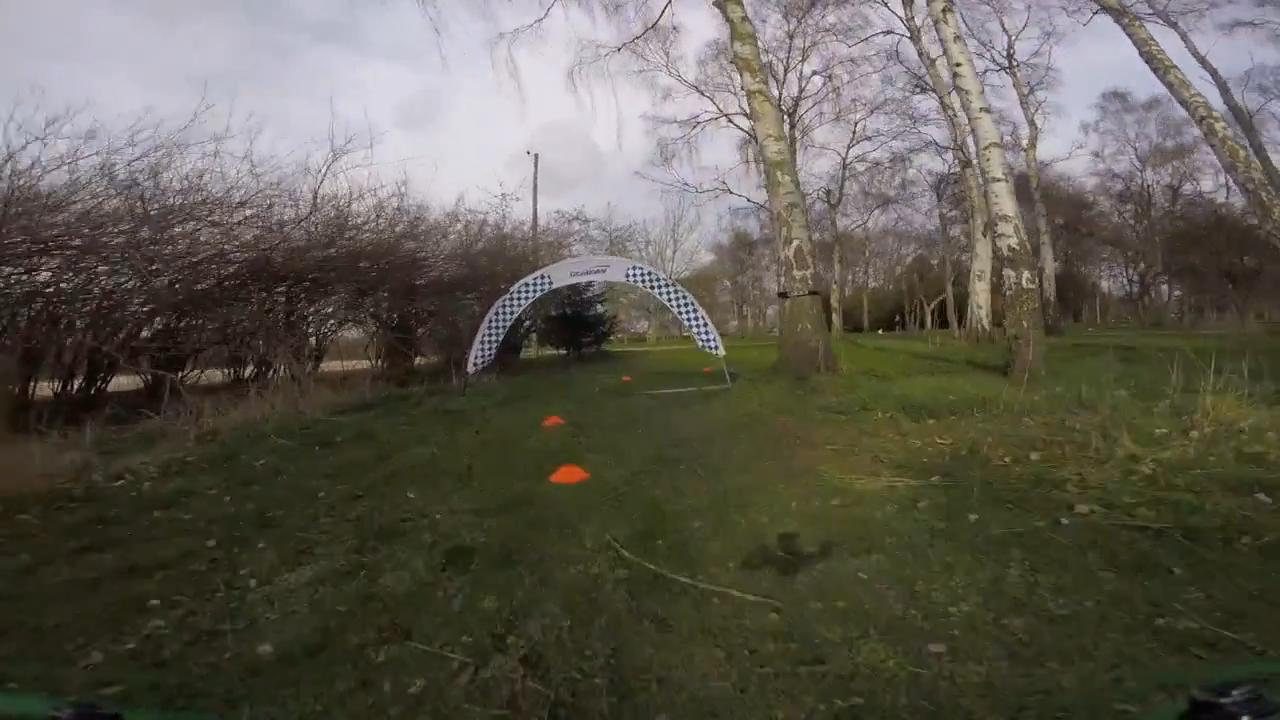gate: (467, 254, 727, 374)
